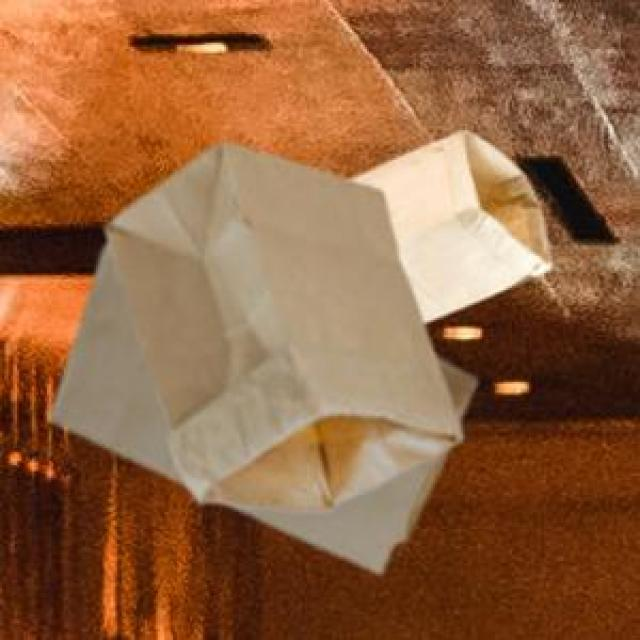PaperCardboard: (50, 129, 548, 570)
